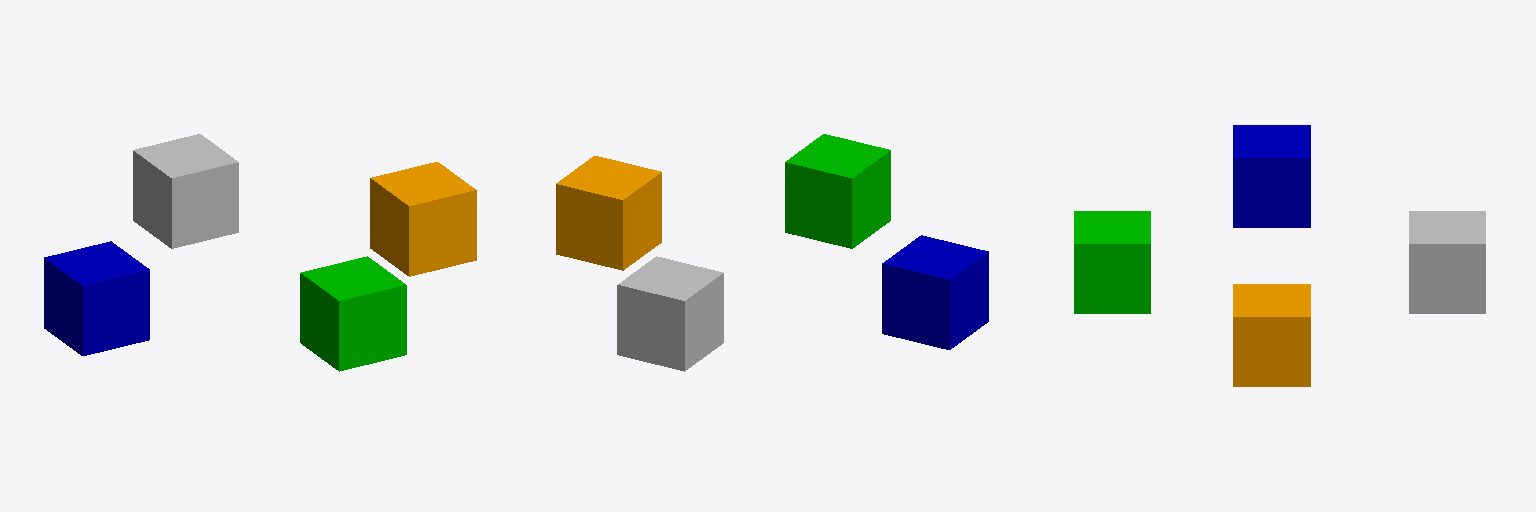
The model's file is Cubes4B.obj.
The picture shows the model from 3 angles: view 1: azimuth 30°, elevation 25°; view 2: azimuth 150°, elevation 25°; view 3: azimuth 270°, elevation 25°; orthographic projection.
Parts seen in each view (by area): view 1: Cube.004, Cube.002, Cube.003, Cube; view 2: Cube.003, Cube, Cube.004, Cube.002; view 3: Cube.003, Cube.004, Cube, Cube.002.
Part boxes in pixels (left/top/right/bottom): Cube.004: left=370, top=162, right=476, bottom=276; Cube.002: left=300, top=256, right=406, bottom=371; Cube.003: left=44, top=241, right=149, bottom=355; Cube: left=133, top=134, right=238, bottom=248; Cube.003: left=882, top=235, right=988, bottom=349; Cube: left=617, top=256, right=723, bottom=371; Cube.004: left=556, top=156, right=661, bottom=270; Cube.002: left=785, top=134, right=890, bottom=248; Cube.003: left=1233, top=125, right=1310, bottom=227; Cube.004: left=1233, top=284, right=1310, bottom=386; Cube: left=1409, top=211, right=1485, bottom=313; Cube.002: left=1074, top=211, right=1150, bottom=313.
Bounding box in the file's own units: 11.69 × 2 × 10.61.